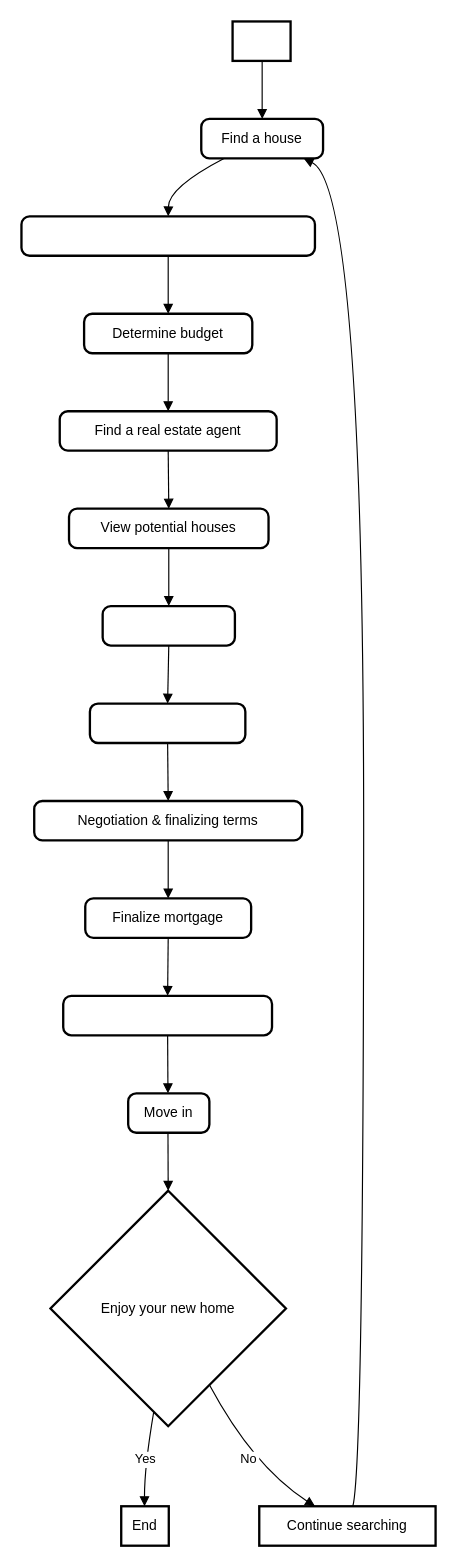
This 456x1566 diagram has some shape labels left out. The box of each missing label's shape, as (x1, y1, x2, y2) in pixels:
Get pre-approved for a mortgage: (20, 215, 316, 256)
Home inspection: (88, 702, 246, 744)
Make an offer: (101, 604, 235, 646)
Sign closing documents: (61, 994, 273, 1036)
Start: (231, 20, 291, 61)
